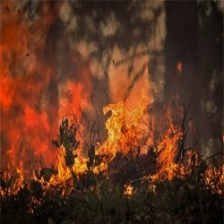fire: (37, 94, 224, 201)
